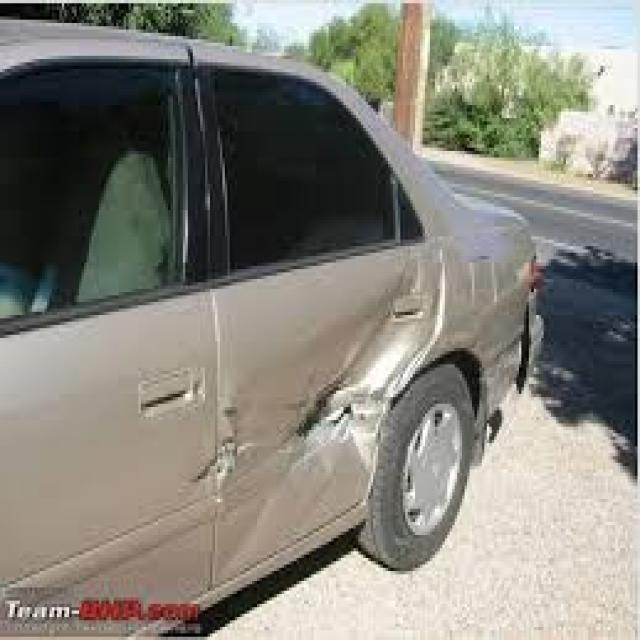minor: (179, 343, 457, 495)
